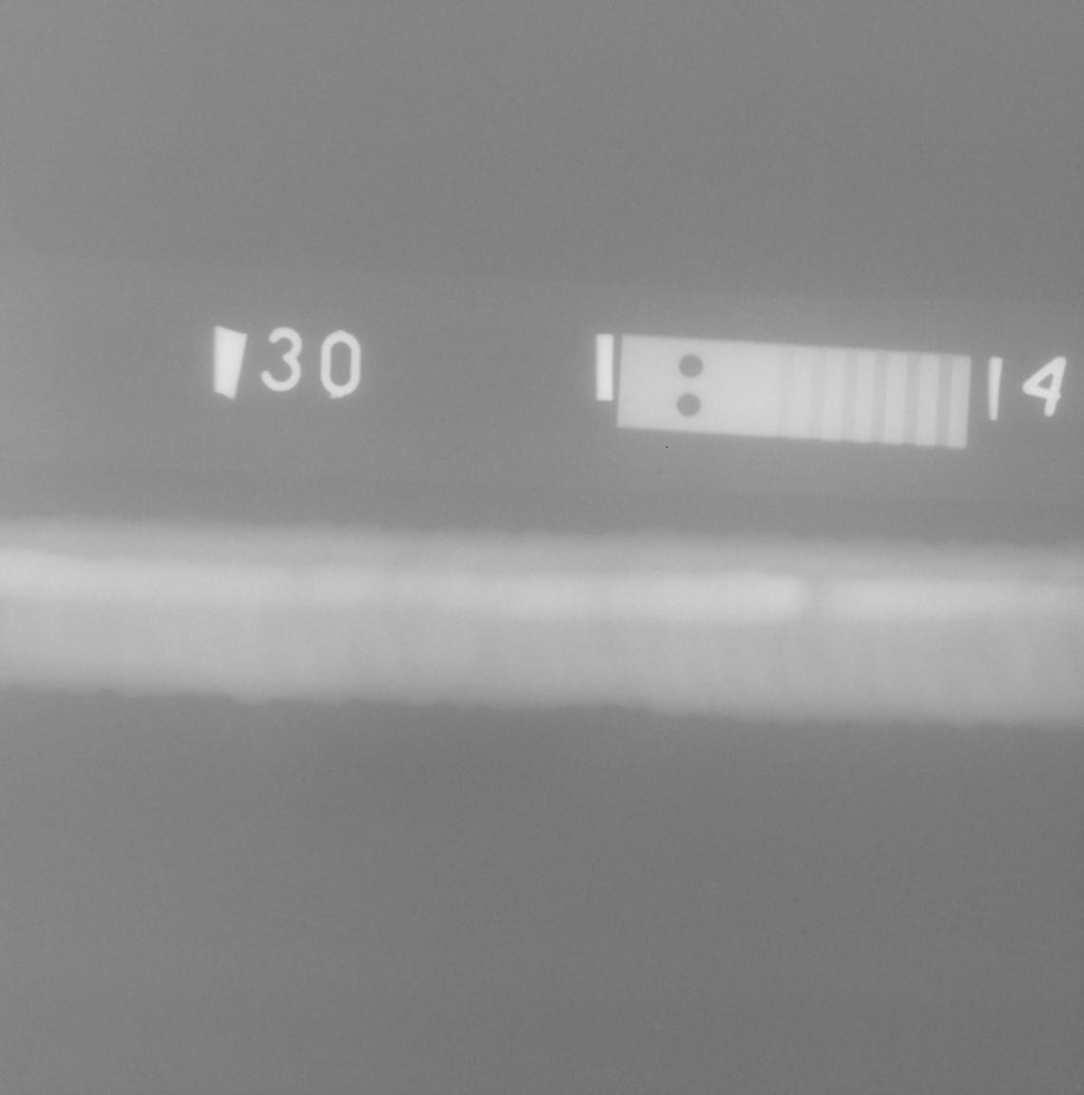Reference Standard 2: (617, 332, 971, 449)
